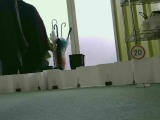speed_20: (129, 45, 147, 61)
